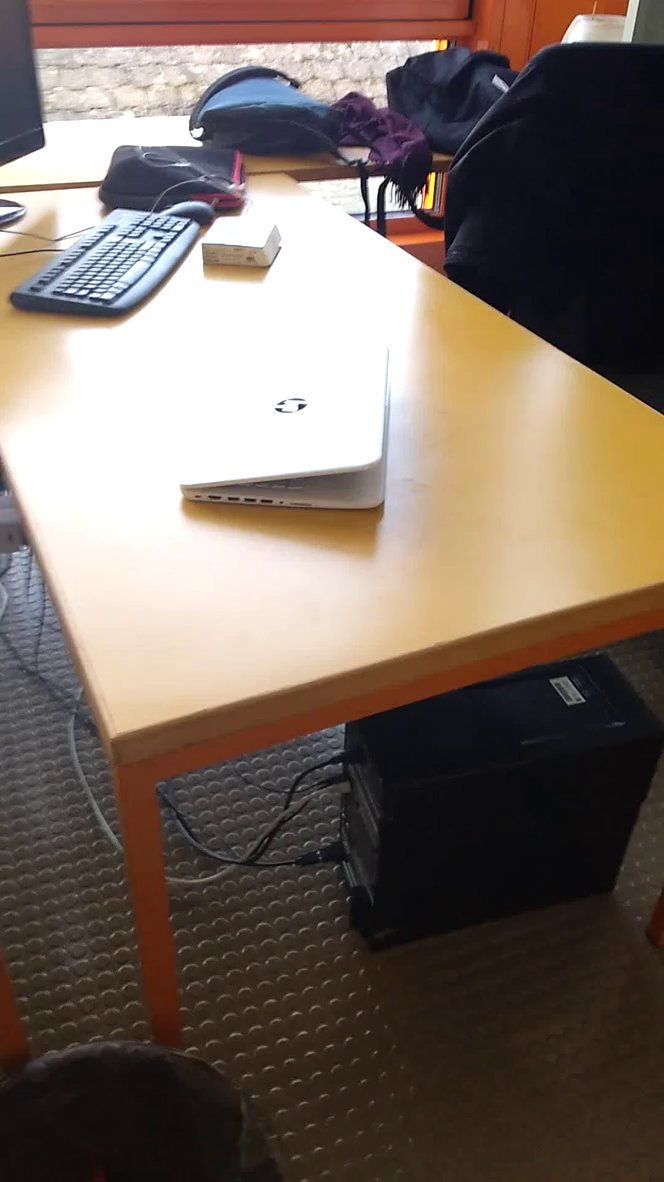bag: (182, 61, 351, 176)
laptop: (166, 320, 419, 545)
